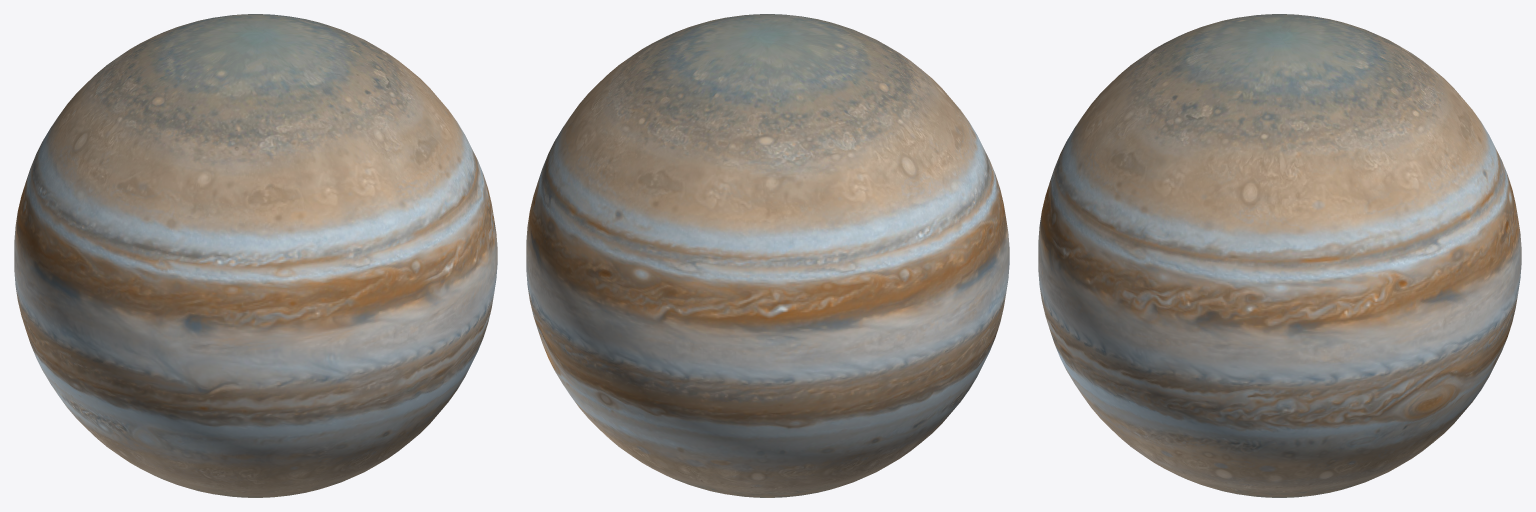
Rendered from jupiter.glb.
The picture shows the model from 3 angles, left to right: view 1: azimuth 30°, elevation 25°; view 2: azimuth 150°, elevation 25°; view 3: azimuth 270°, elevation 25°; orthographic projection.
Visible parts, largest first — view 1: Sphere; view 2: Sphere; view 3: Sphere.
Part boxes in pixels (left/top/right/bottom): Sphere: left=14, top=14, right=497, bottom=497; Sphere: left=526, top=14, right=1009, bottom=497; Sphere: left=1038, top=14, right=1521, bottom=497.
Bounding box in the file's own units: 2 × 2 × 2.
1 material, 1 textured.
